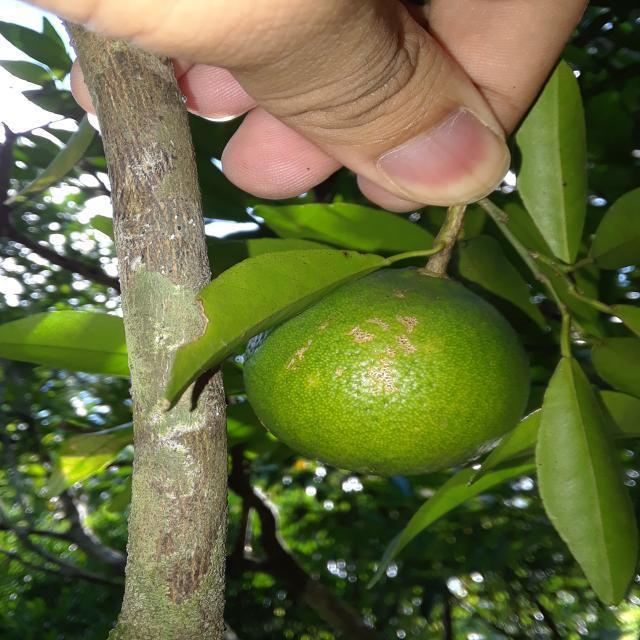thrips: (241, 251, 531, 475)
